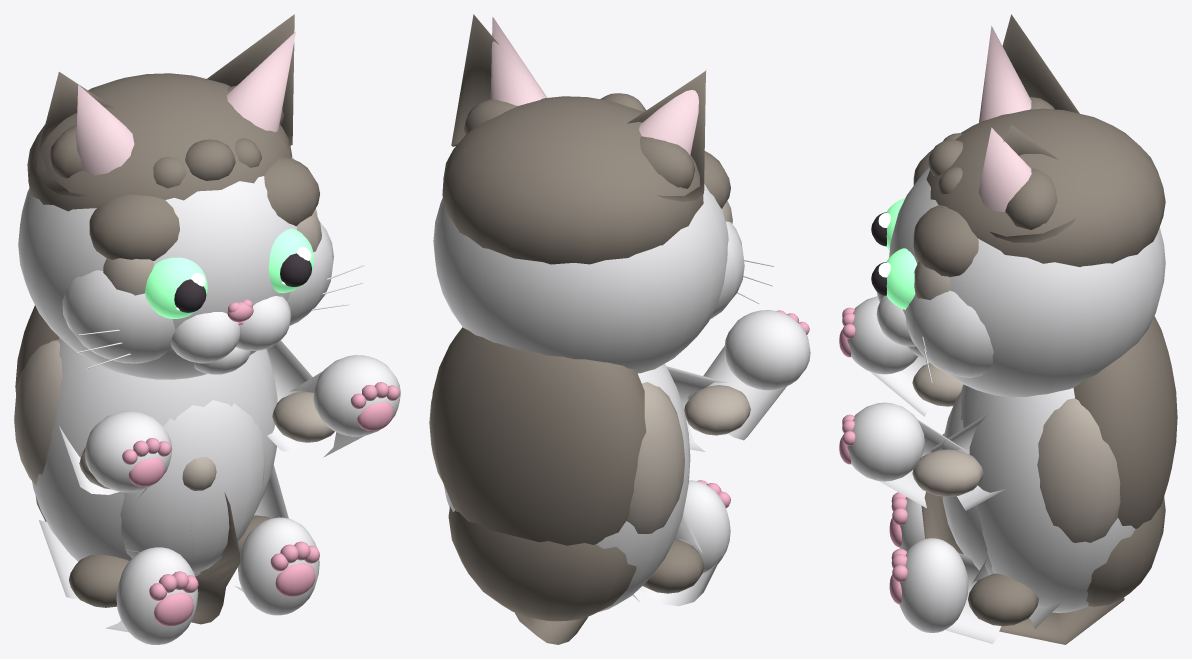
The model's file is cat.glb.
3 views of the same model, side by side, from view 1: azimuth 30°, elevation 25°; view 2: azimuth 150°, elevation 25°; view 3: azimuth 270°, elevation 25° (orthographic). The views are drawn at different scales.
Parts seen in each view (by area): view 1: Cat; view 2: Cat; view 3: Cat.
Part boxes in pixels (left/top/right/bottom): Cat: left=14, top=14, right=400, bottom=644; Cat: left=429, top=14, right=810, bottom=644; Cat: left=839, top=14, right=1177, bottom=644.
Bounding box in the file's own units: 0.856 × 1.58 × 0.8543.
